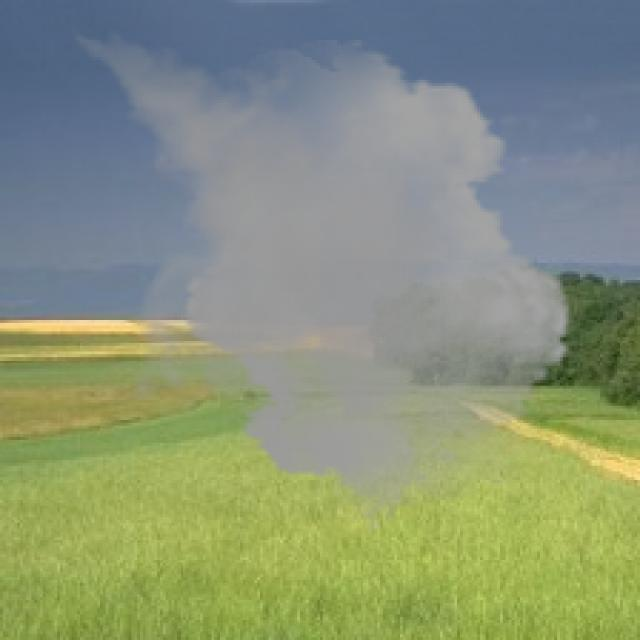smoke: (46, 20, 586, 534)
